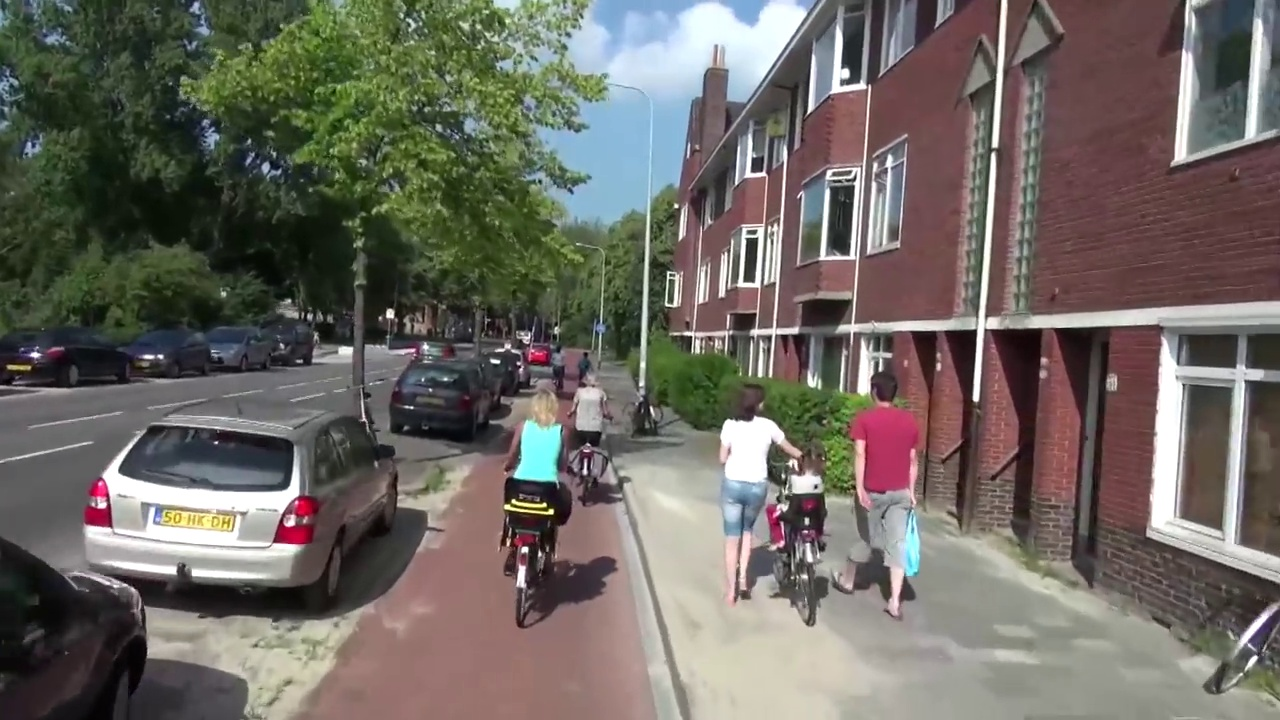cyclist_back: (488, 375, 572, 637), (567, 371, 612, 505)
